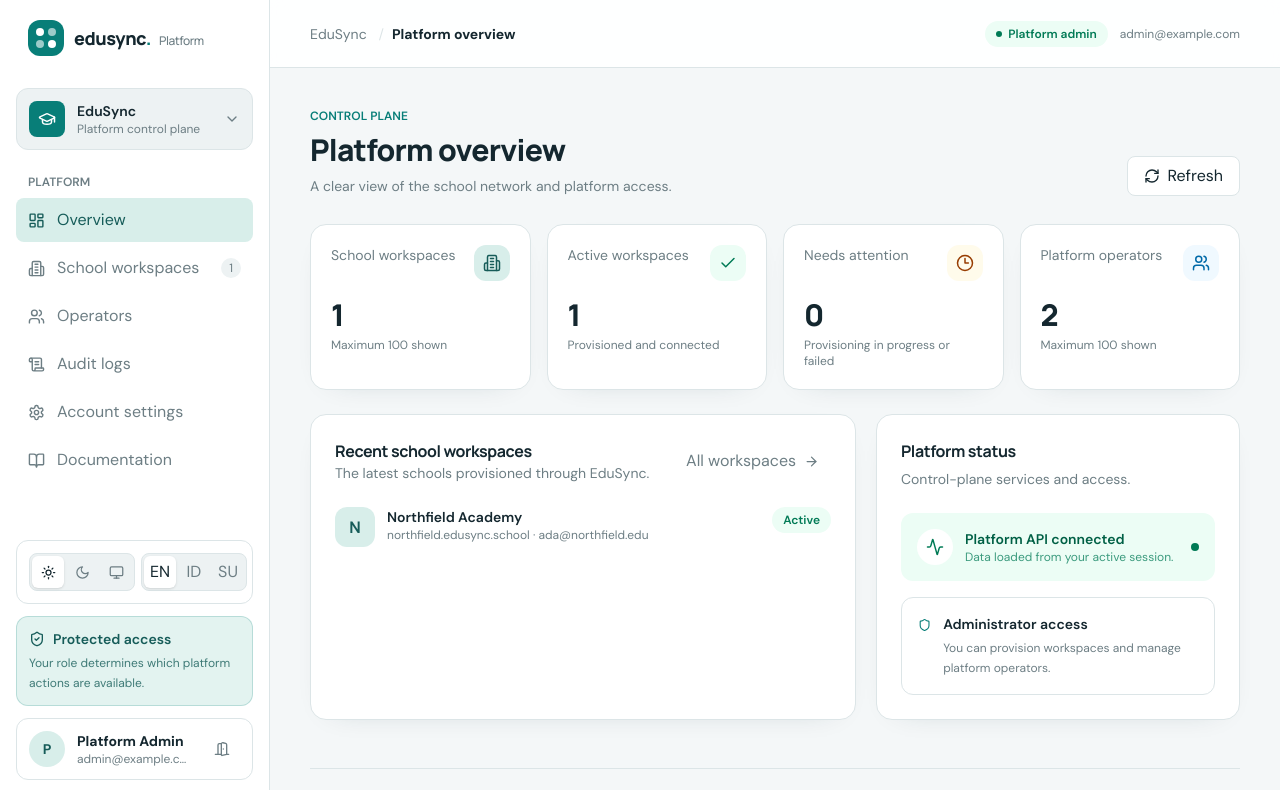
Platform admin lifecycle › resends and revokes a pending invitation
The width and height of the screenshot is (1280, 790).
Expected: the text "Platform admin" is shown, x1=985 y1=20 x2=1108 y2=46
Click the button "Operators" at {"x": 134, "y": 316}, box x1=16 y1=294 x2=253 y2=338
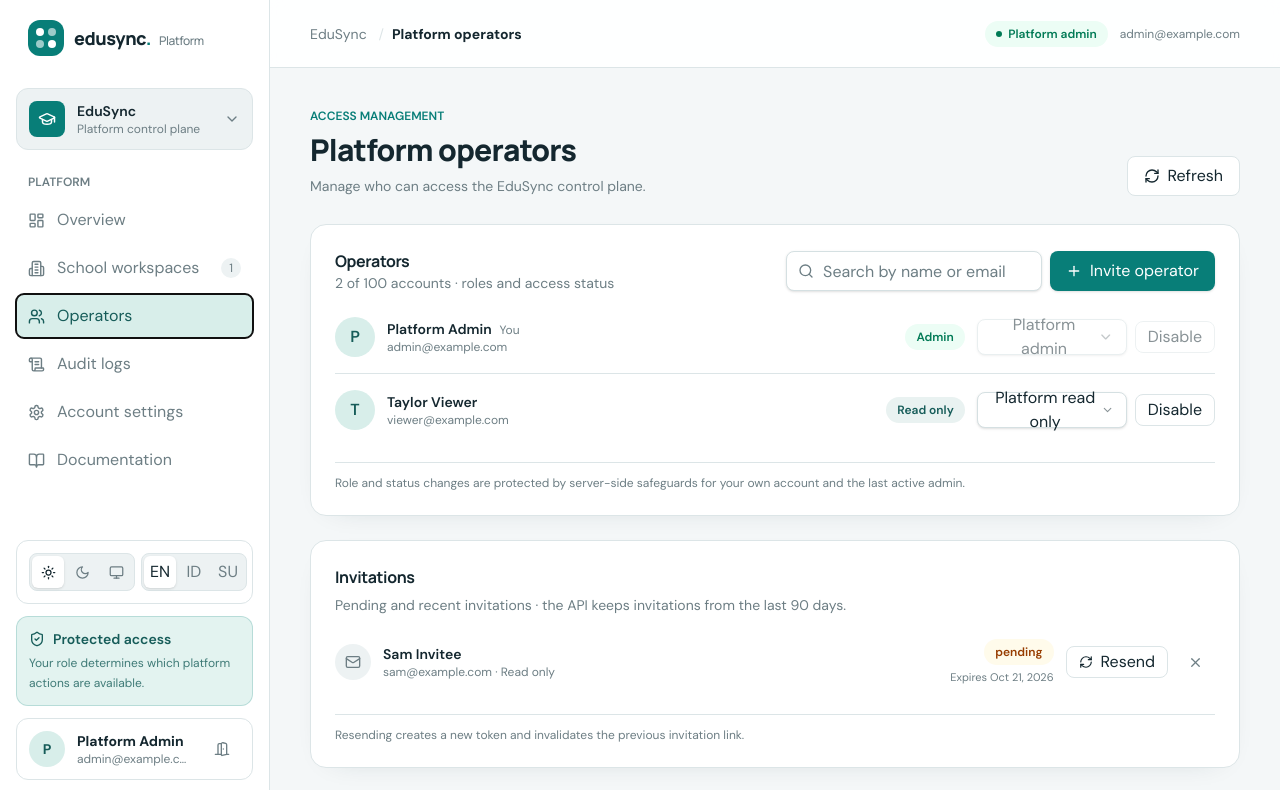
Click the button "Resend" at {"x": 1117, "y": 662}, box x1=1066 y1=646 x2=1168 y2=678
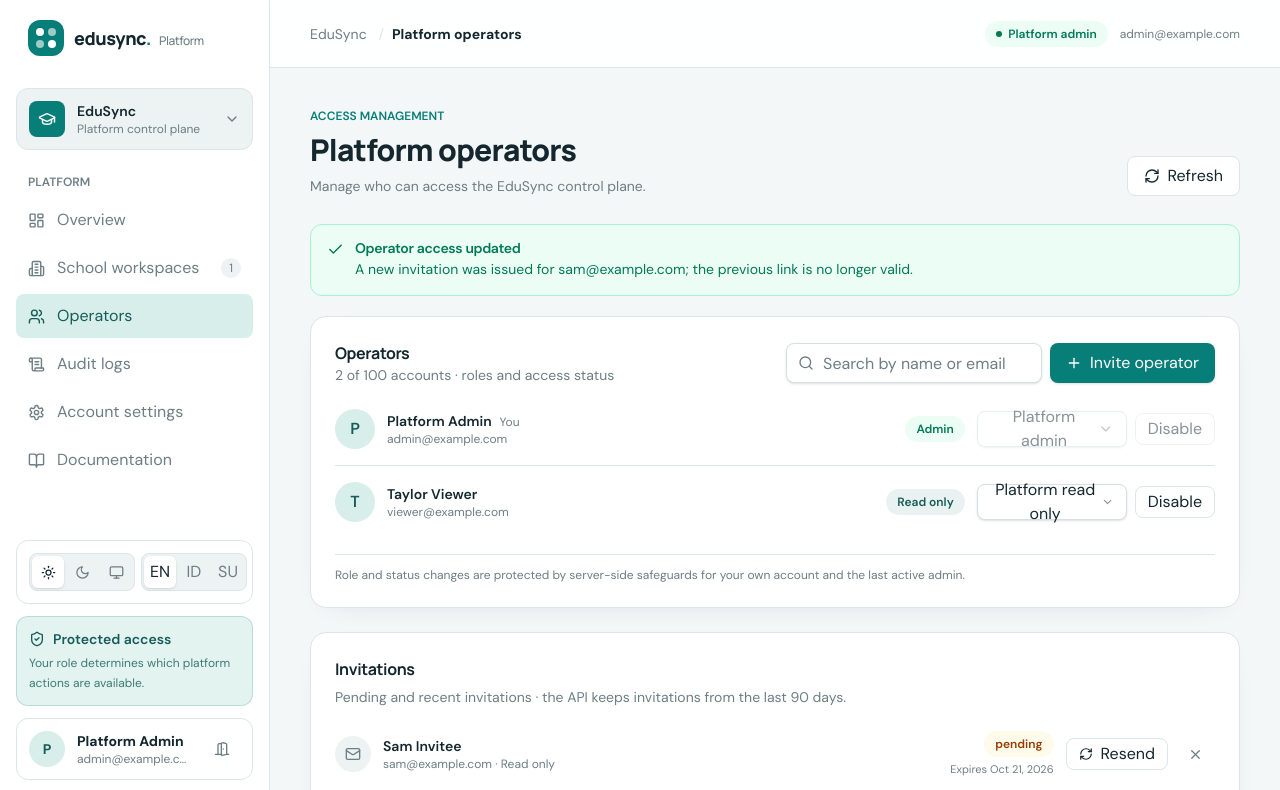
Result: the button named "Revoke invitation for sam@example.com" is enabled
Result: the text "A new invitation was issued for sam@example.com; the previous link is no longer valid." is shown at x1=355 y1=260 x2=913 y2=278
Click the button named "Revoke invitation for sam@example.com" at {"x": 1196, "y": 754}, box x1=1176 y1=738 x2=1215 y2=770
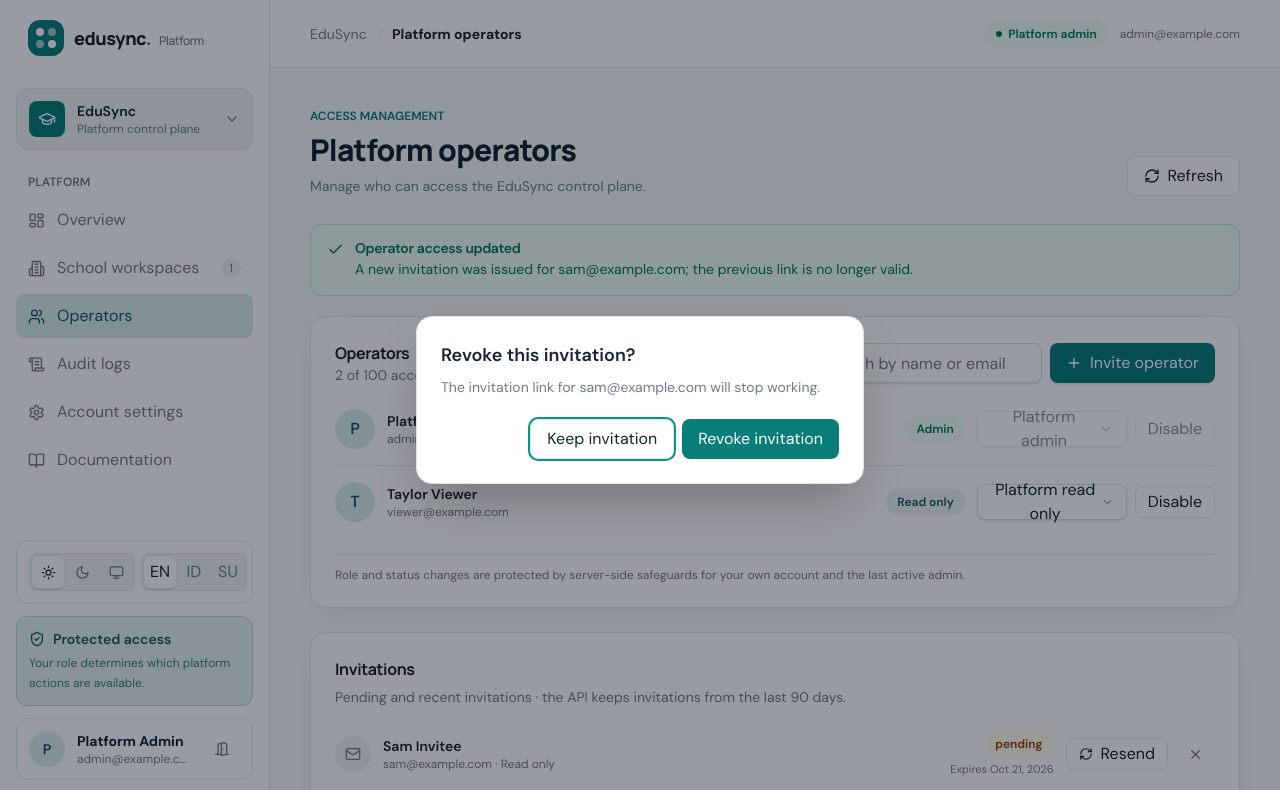
Click the button "Revoke invitation" at {"x": 761, "y": 439}, box x1=682 y1=419 x2=839 y2=459
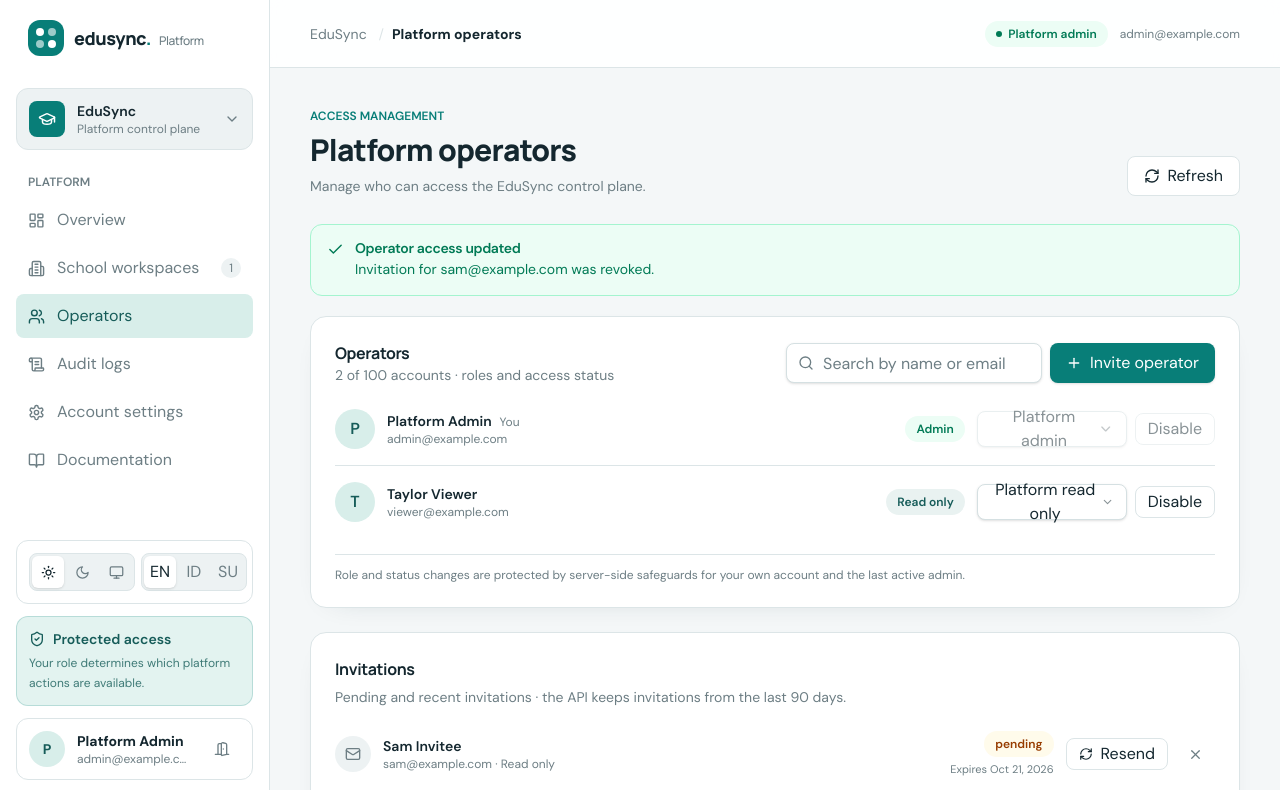
Result: the text "Invitation for sam@example.com was revoked." is shown at x1=355 y1=260 x2=654 y2=278
